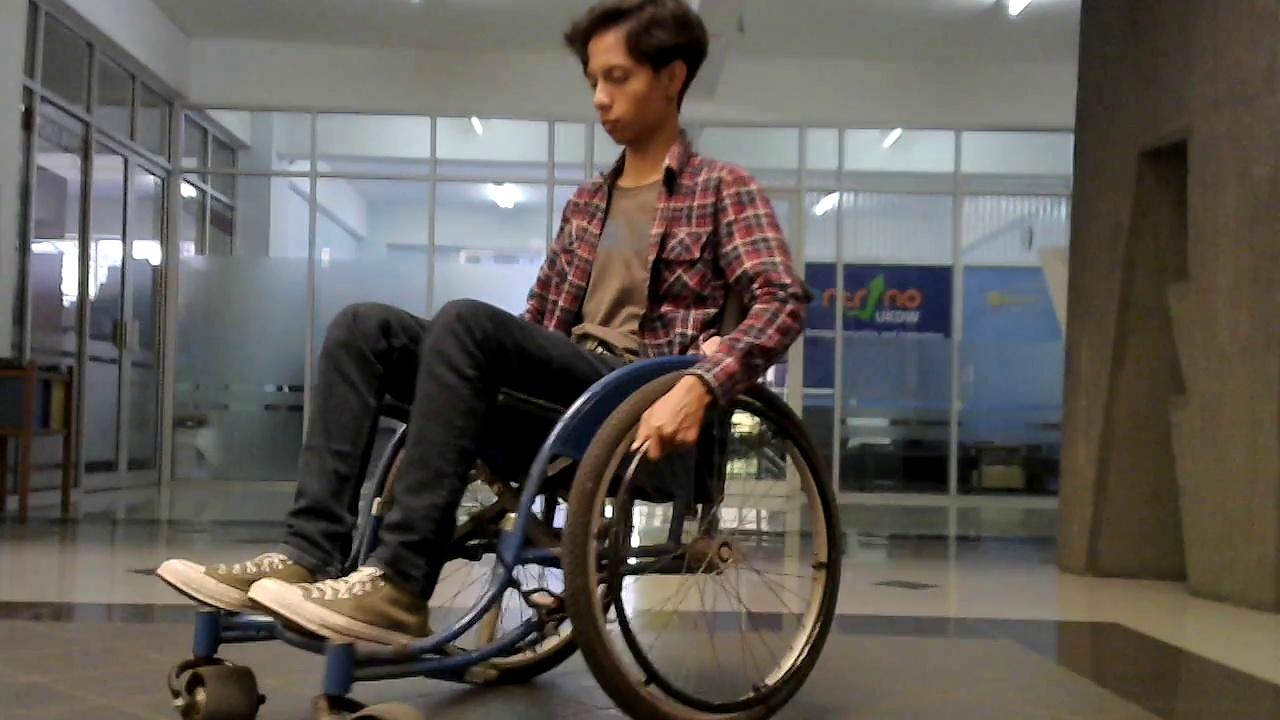person: (259, 2, 812, 671)
wheelchair: (171, 259, 861, 720)
